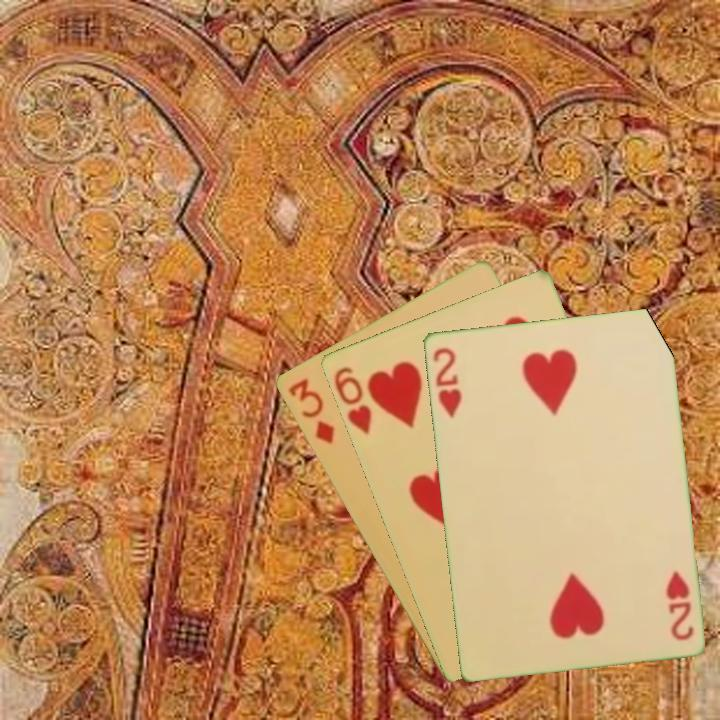2h: (428, 343, 464, 421), (662, 566, 696, 643)
3d: (284, 374, 338, 447)
6h: (330, 363, 374, 437)
